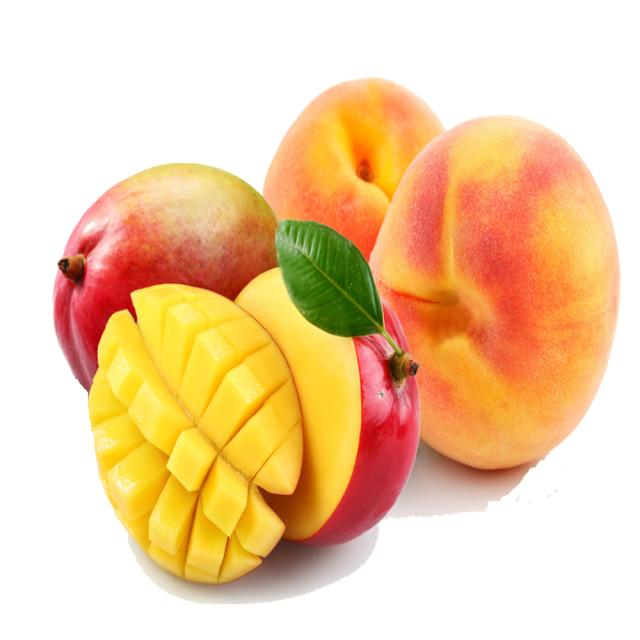mango: (45, 154, 284, 386)
